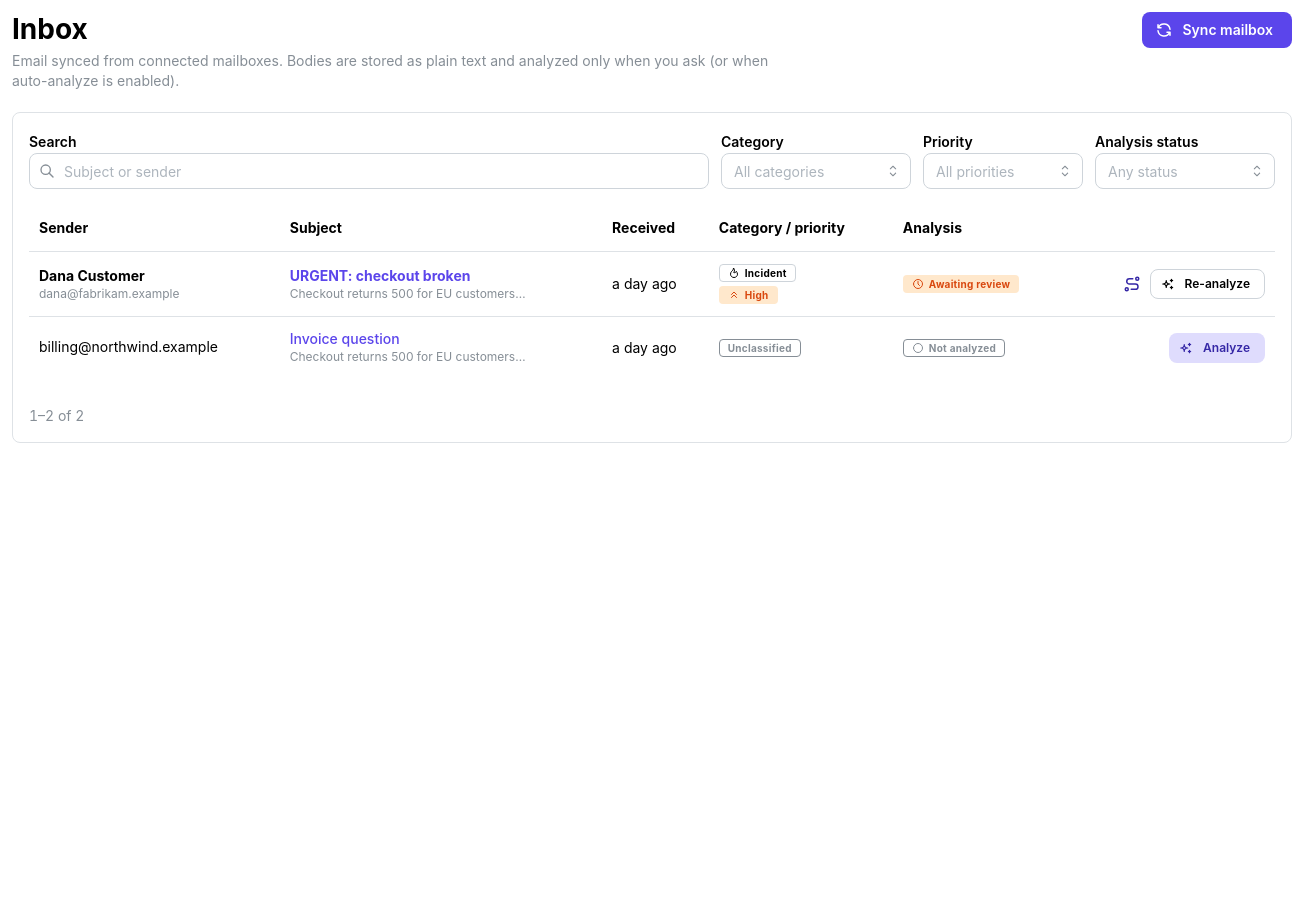
Test case: <InboxPage> analyze › POSTs analyze for the clicked row only, showing loading only there
What coordinates should you click on to do the following:
click the button with aria-label "Analyze “Invoice question”"
I would click on:
 (1217, 348)
Its box is [1169, 333, 1265, 363].
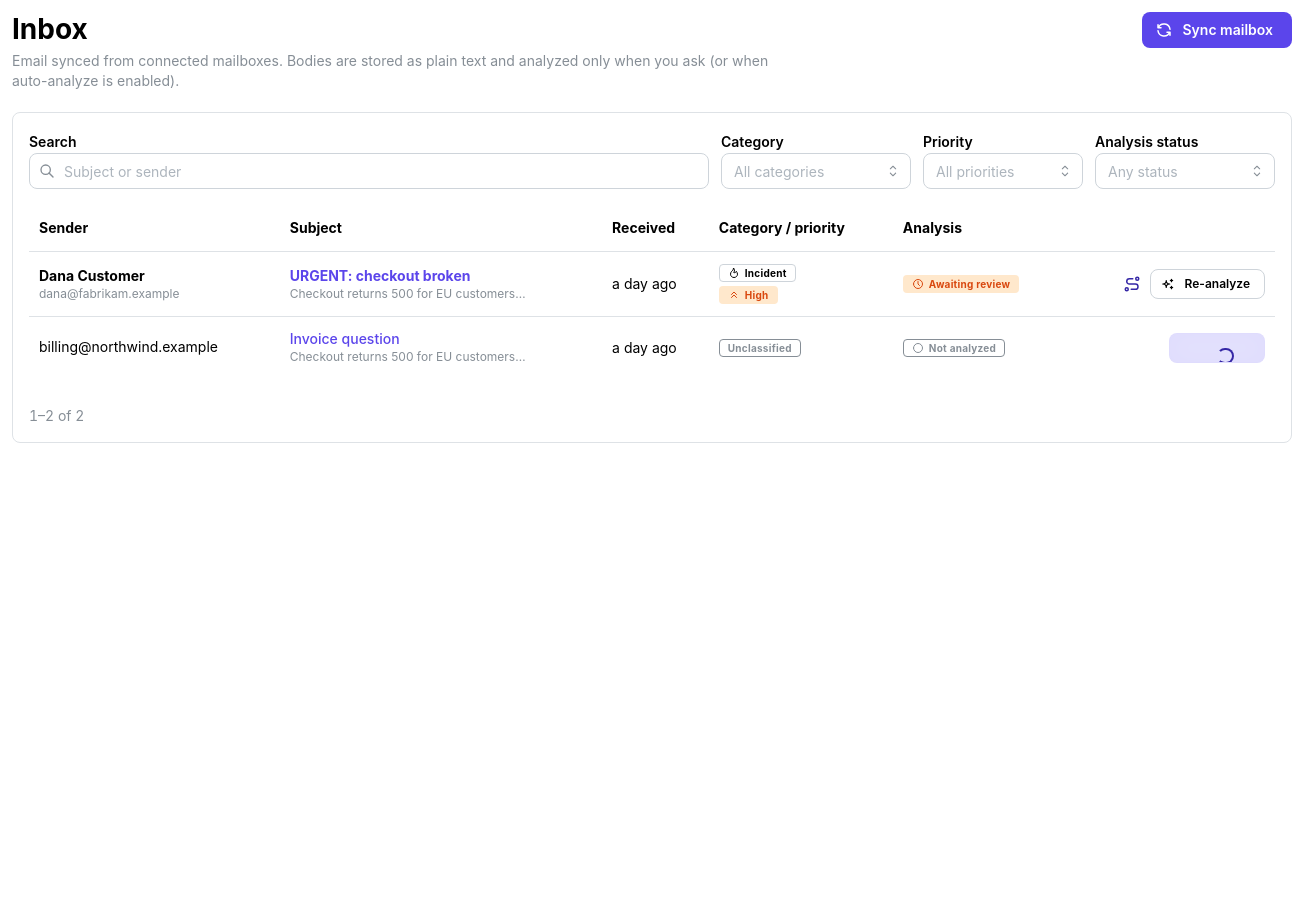
Check: the button named "Analyze “Invoice question”" is disabled
# Double click while pending does not send a second request.
What coordinates should you click on to do the following:
click the button named "Analyze “Invoice question”"
I would click on:
 (1217, 348)
Its box is [1169, 333, 1265, 363].
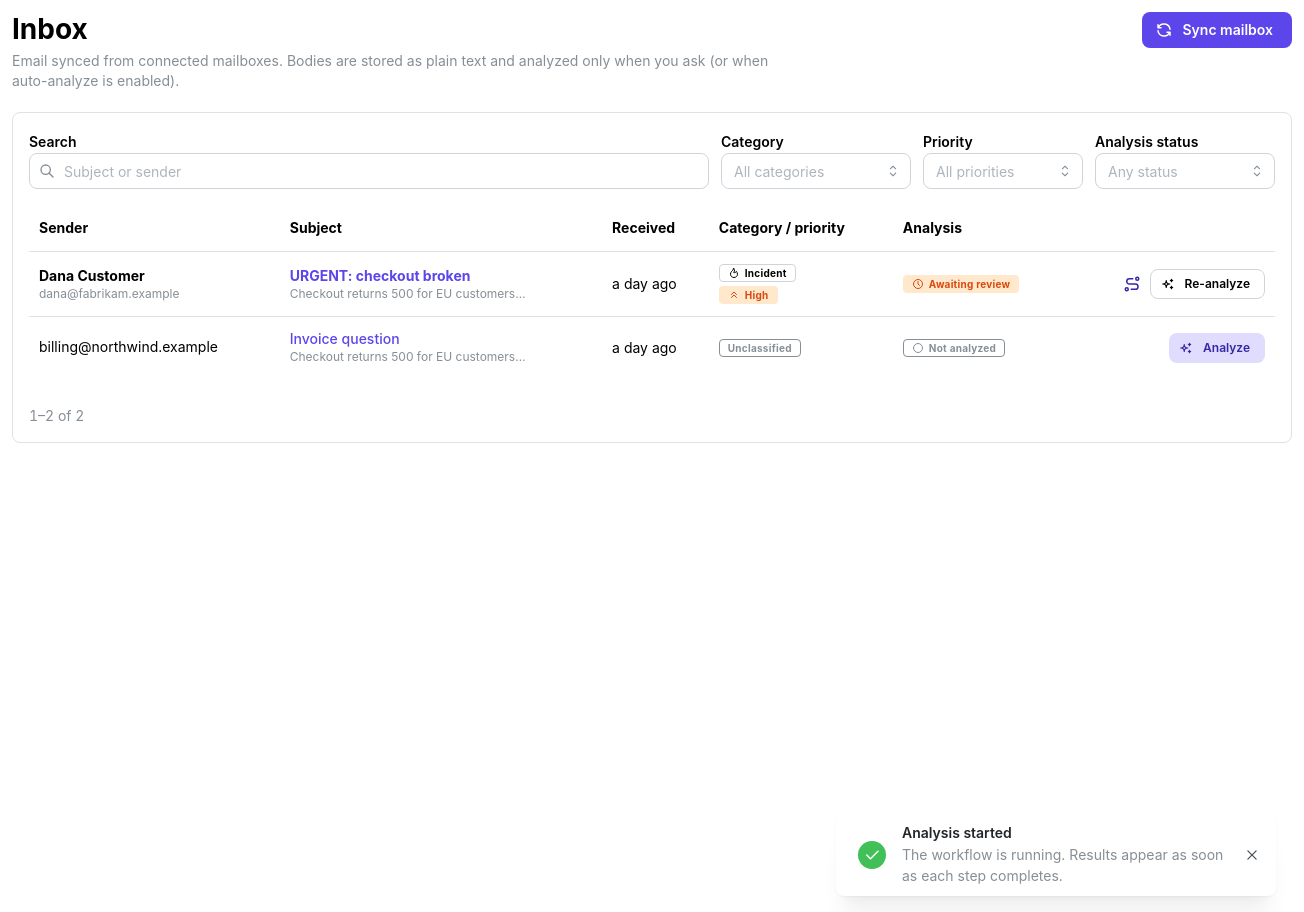
Check: the text "Analysis started" is shown, box [902, 824, 1012, 841]
